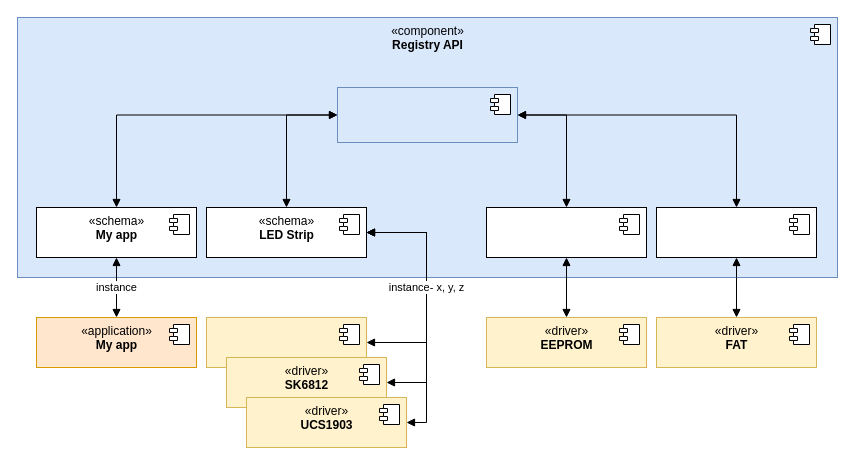
Some shapes in this 855 by 465 pixel diagram are drawn without their labels. Here are the shapes that lost their labels. From the top down, the box of each, then its label:
(336, 86, 518, 142): Registry
(486, 206, 646, 258): «storage facility» EEPROM
(656, 206, 816, 258): «storage facility» FAT
(206, 316, 366, 368): «driver» WS2812
